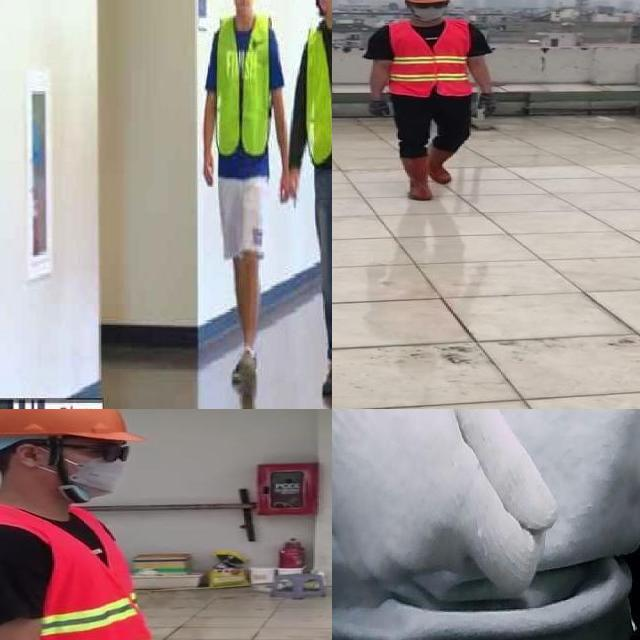BOOTS: (400, 155, 436, 201), (425, 147, 455, 185)
GLASS: (10, 439, 130, 463), (407, 3, 449, 9)
GLOVE: (332, 409, 560, 595), (479, 93, 497, 117), (368, 100, 391, 117)
HELMET: (0, 409, 130, 442), (400, 0, 454, 7)
VEST: (0, 508, 170, 640), (208, 16, 278, 172), (391, 21, 474, 97), (300, 20, 332, 165)
